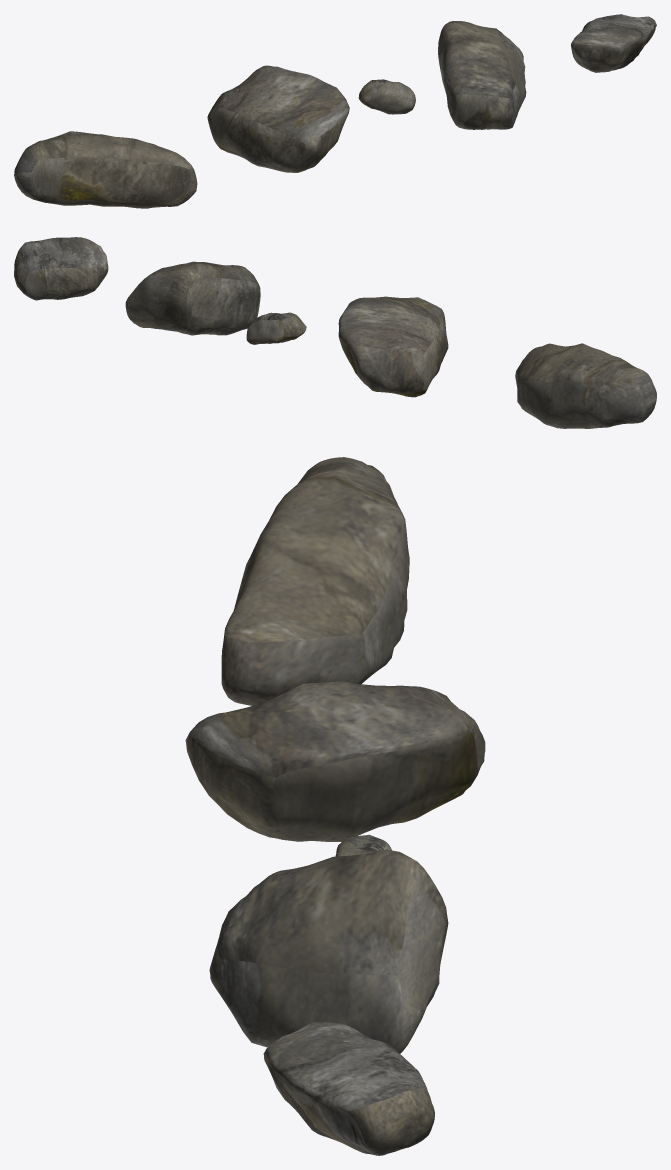
The model's file is Rocks.fbx.
3 renders of one model, top to bottom at view 1: azimuth 30°, elevation 25°; view 2: azimuth 150°, elevation 25°; view 3: azimuth 270°, elevation 25°, orthographic. The views are drawn at different scales.
Visible parts, largest first — view 1: Rock5, Rock3, Rock4, Rock1, Rock2; view 2: Rock5, Rock3, Rock4, Rock1, Rock2; view 3: Rock3, Rock4, Rock5, Rock1.
Part boxes in pixels (box(x1,y1,x2,y2)): Rock5: box(14, 131, 197, 208); Rock3: box(207, 65, 349, 172); Rock4: box(438, 21, 526, 129); Rock1: box(571, 14, 656, 72); Rock2: box(358, 79, 415, 114); Rock5: box(515, 343, 656, 428); Rock3: box(338, 296, 448, 397); Rock4: box(125, 261, 260, 335); Rock1: box(14, 237, 108, 300); Rock2: box(246, 312, 306, 344); Rock3: box(185, 681, 485, 841); Rock4: box(209, 849, 448, 1053); Rock5: box(221, 457, 409, 705); Rock1: box(263, 1021, 434, 1155).
Bounding box in the file's own units: 151 × 19.96 × 30.9.
